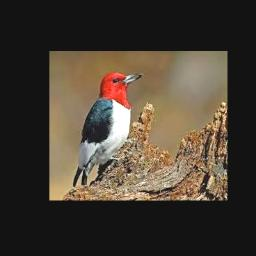Woodpecker: (72, 72, 142, 188)
